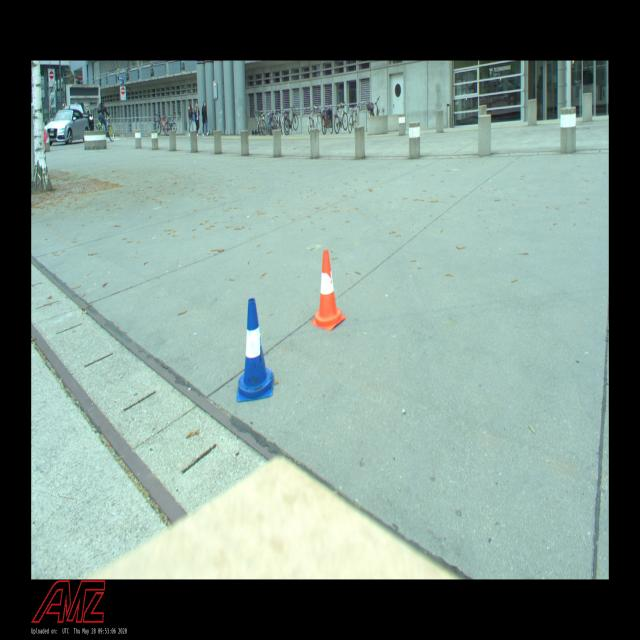blue_cone: (235, 296, 275, 401)
orange_cone: (310, 249, 346, 330)
